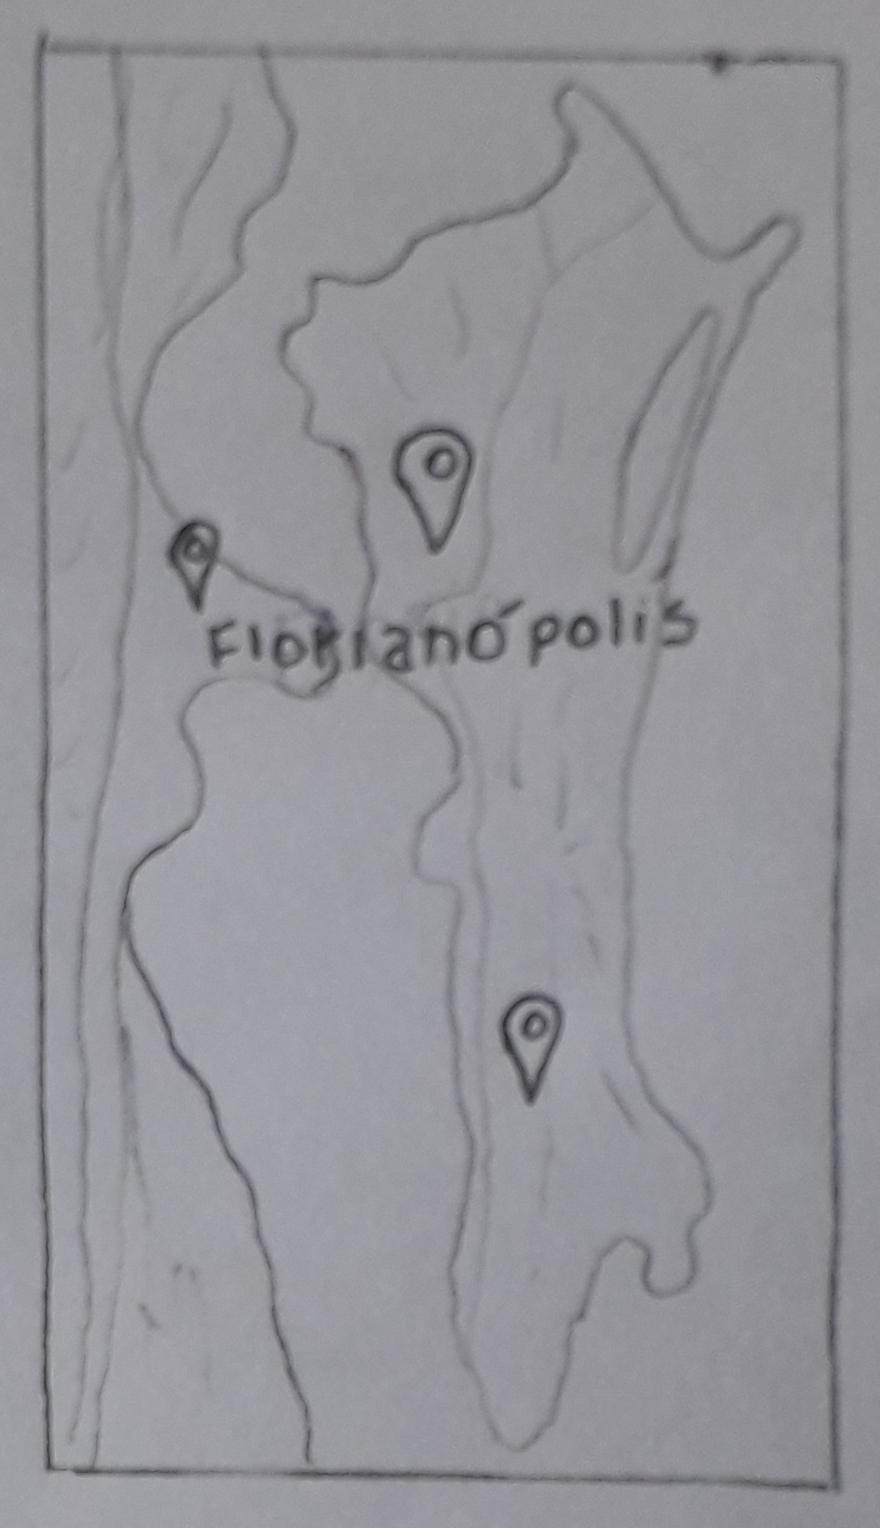Map: (43, 48, 839, 1486)
Screen: (38, 43, 843, 1493)
